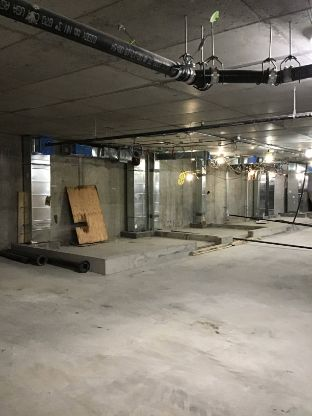Duct: (18, 129, 59, 250), (125, 142, 164, 233), (56, 138, 129, 163), (250, 160, 278, 223), (284, 156, 312, 217), (191, 146, 208, 229)
